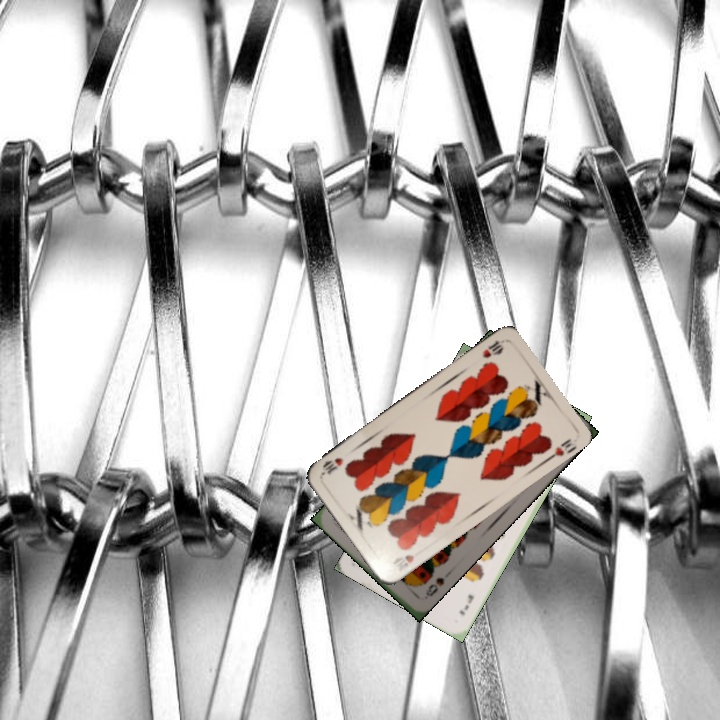E7: (455, 590, 477, 618)
H10: (478, 336, 506, 361), (389, 551, 417, 570)
S8: (420, 573, 447, 601)
